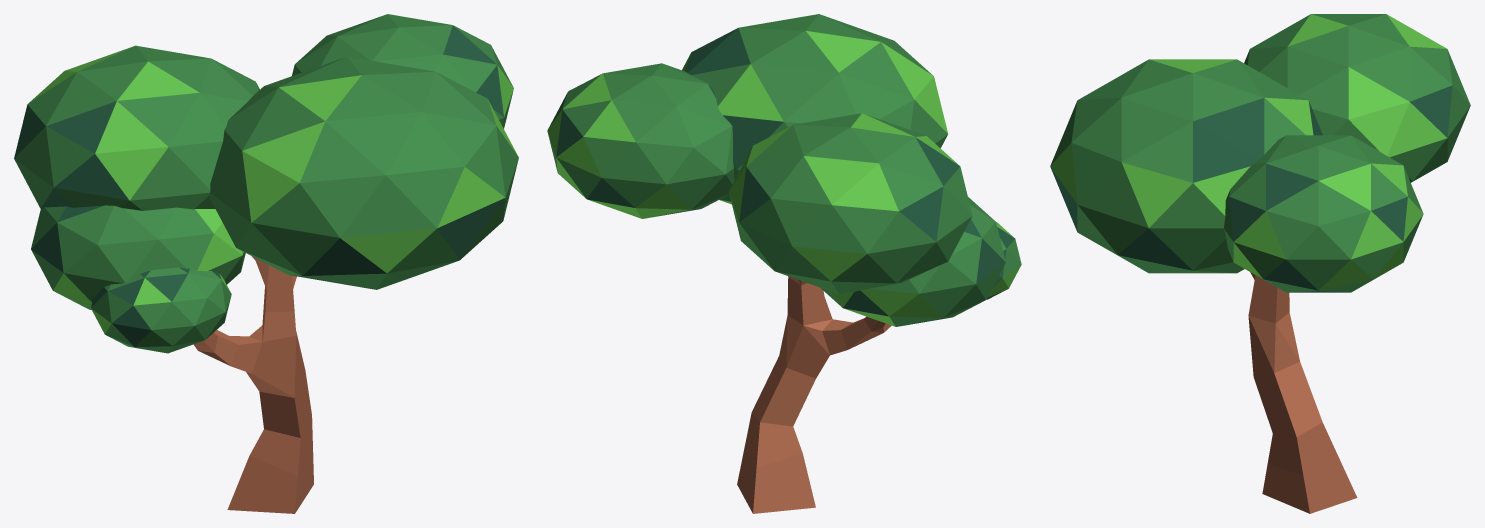
File: Tree_04_1.fbx
3 views of the same model, side by side, from view 1: azimuth 30°, elevation 25°; view 2: azimuth 150°, elevation 25°; view 3: azimuth 270°, elevation 25° (orthographic). The views are drawn at different scales.
Parts seen in each view (by area): view 1: Tree_04 top, Tree_04 trunk; view 2: Tree_04 top, Tree_04 trunk; view 3: Tree_04 top, Tree_04 trunk.
Part boxes in pixels (bbox=[...]): Tree_04 top: bbox=[14, 14, 518, 475]; Tree_04 trunk: bbox=[227, 450, 313, 513]; Tree_04 top: bbox=[547, 14, 1021, 467]; Tree_04 trunk: bbox=[737, 449, 815, 513]; Tree_04 top: bbox=[1050, 14, 1470, 475]; Tree_04 trunk: bbox=[1262, 460, 1357, 513].
Size of the model in its own units: 478 by 458 by 398.
